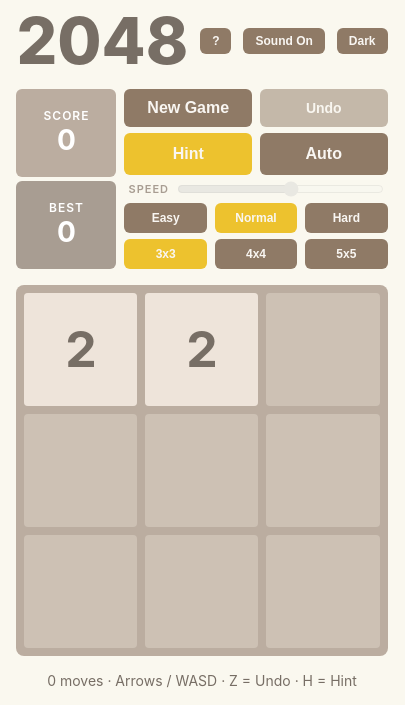
Test: Game component smoke test › supports 3x3 boards
The width and height of the screenshot is (405, 705).
Press ArrowLeft
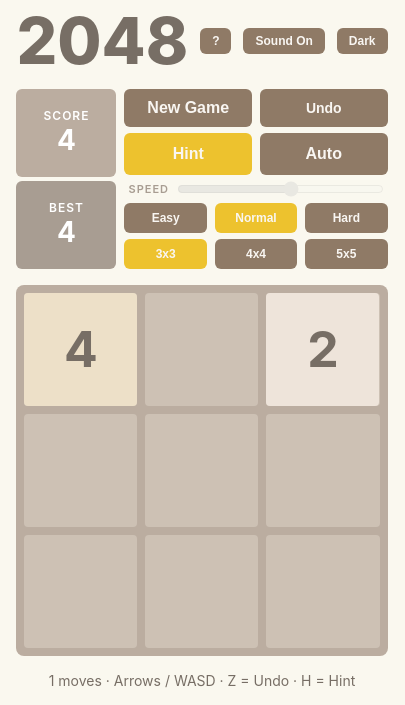
Click the button "5x5".
click(346, 254)  # box x1=305 y1=239 x2=388 y2=269
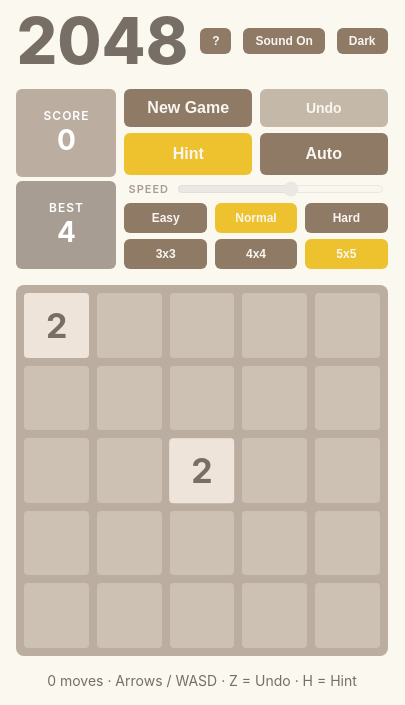
Check: the number of cells with class "cell" is 25
